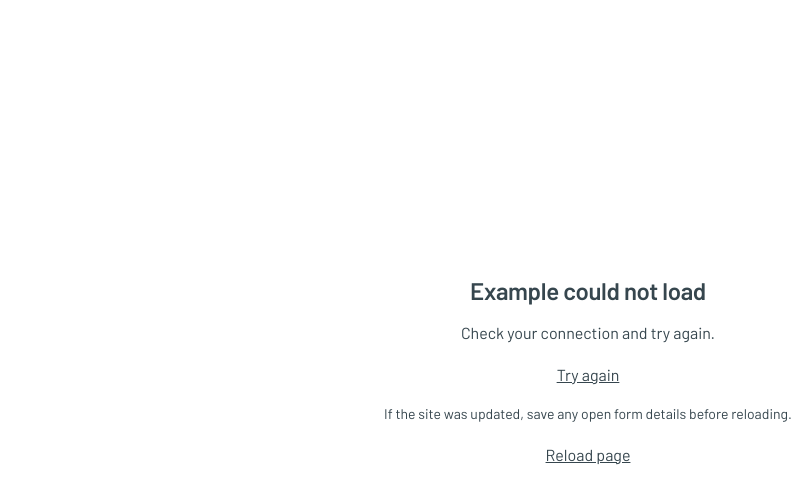
Test: keeps the original error and retries the import after a temporary failure
Click the button "Try again": (588,375) [557,362,619,387]
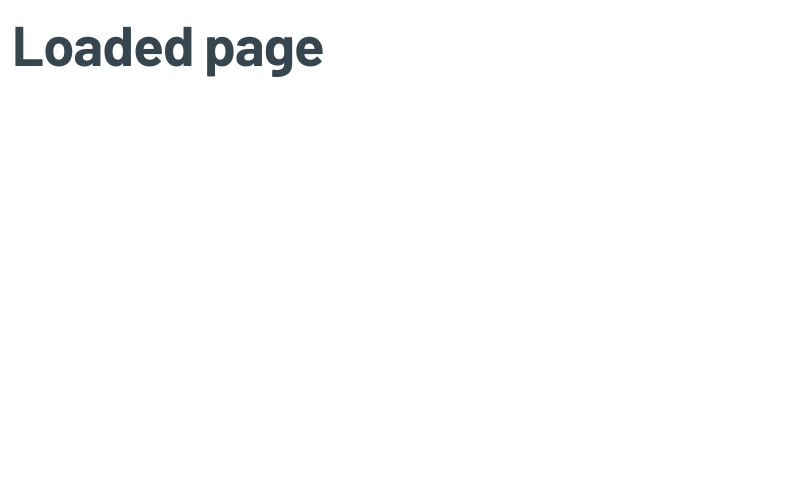
Expected: the heading "Loaded page" is shown, [12,12,324,77]
